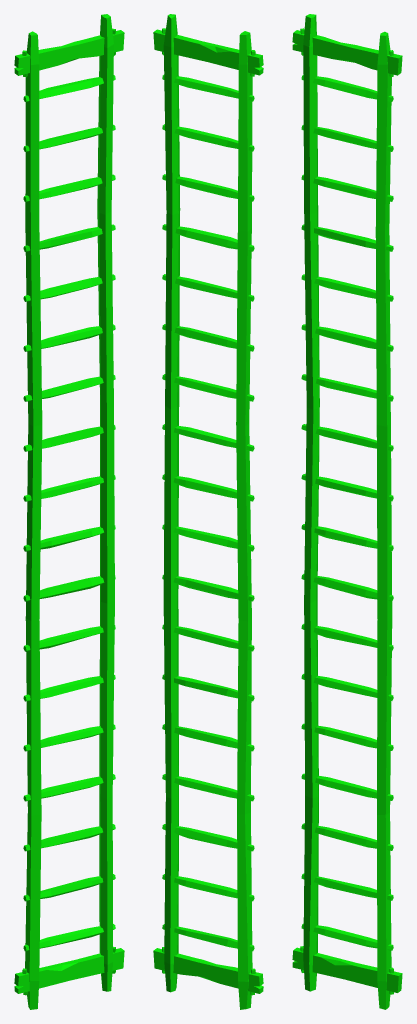
Rendered from SM_Siege_Ladder_A_Fantasy.fbx.
3 renders of one model, left to right at view 1: azimuth 30°, elevation 25°; view 2: azimuth 150°, elevation 25°; view 3: azimuth 330°, elevation 25°, orthographic.
Parts seen in each view (by area): view 1: siege-ladder-a-fantasy; view 2: siege-ladder-a-fantasy; view 3: siege-ladder-a-fantasy.
Boxes of the visible parts, box(x1,y1,x2,y2) form: siege-ladder-a-fantasy: box(14, 14, 124, 1009); siege-ladder-a-fantasy: box(153, 14, 263, 1009); siege-ladder-a-fantasy: box(292, 14, 402, 1009).
Bounding box in the file's own units: 0.7069 × 6.19 × 0.0983.
